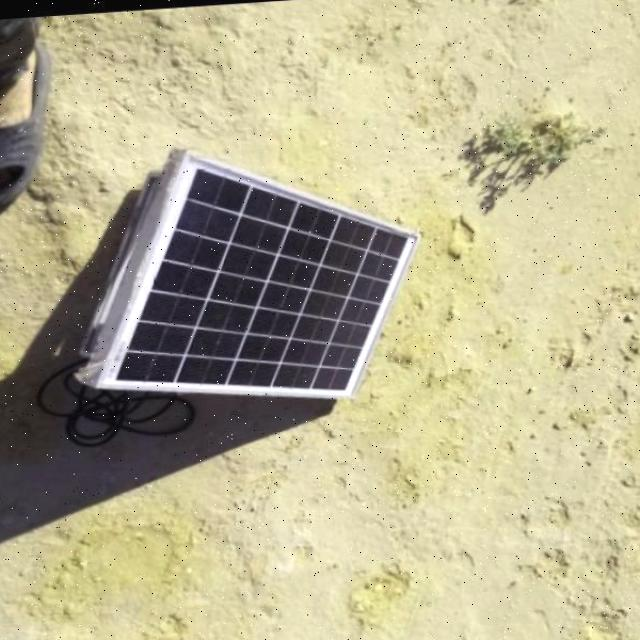Normal Solar Panel: (98, 130, 428, 410)
